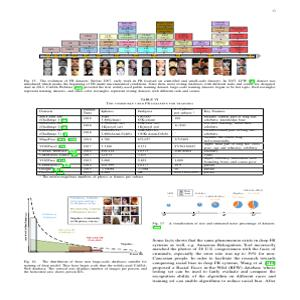diagram: (34, 20, 261, 78), (22, 195, 145, 258), (153, 188, 276, 219)
table: (32, 104, 268, 180)
text: (151, 221, 276, 286)
